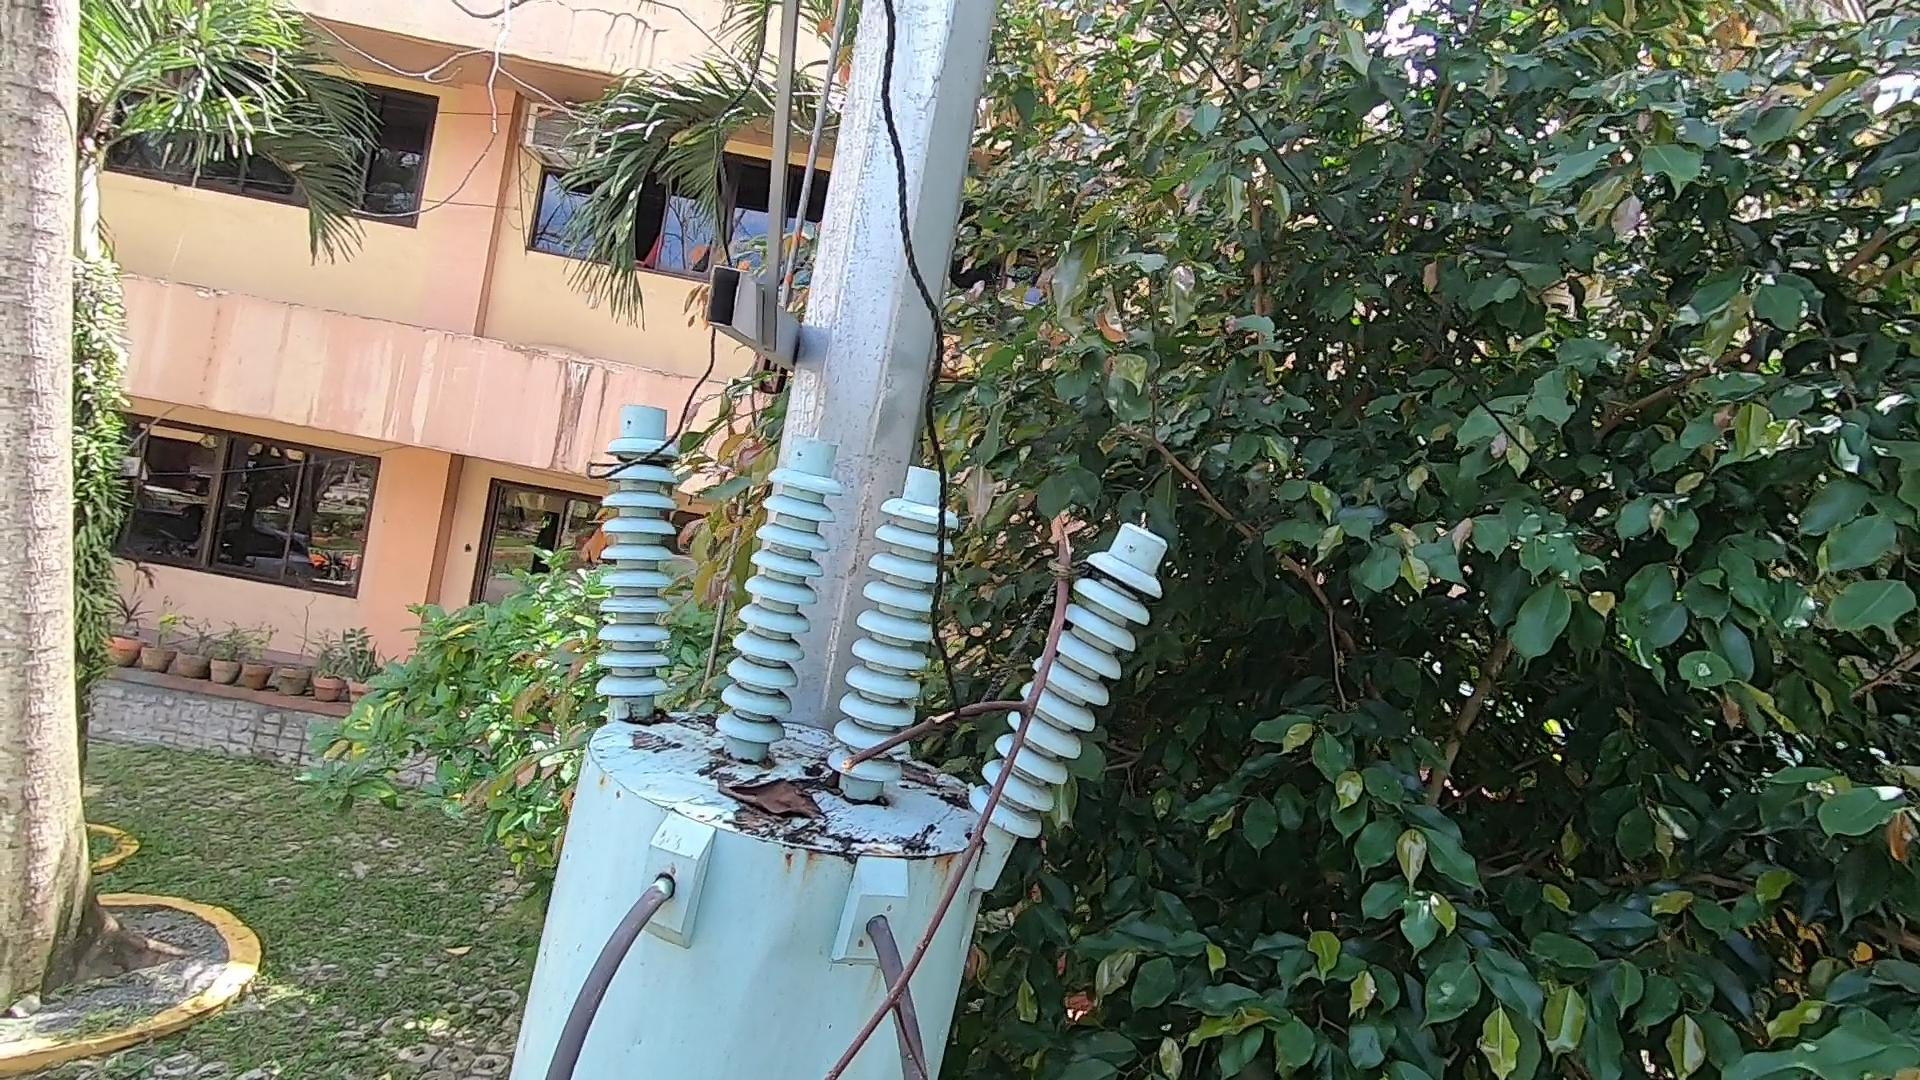leaf: (715, 766, 835, 843)
tree branch: (777, 509, 1125, 1080)
